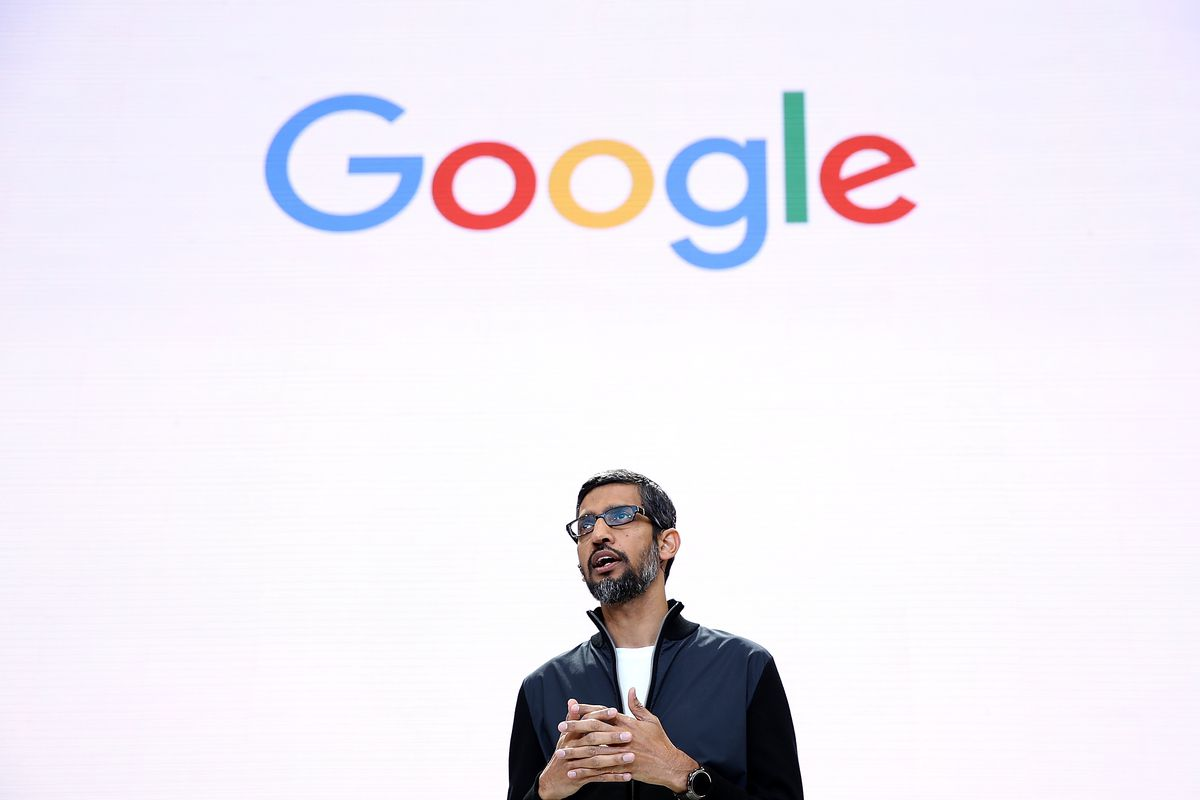google: (263, 93, 918, 270)
